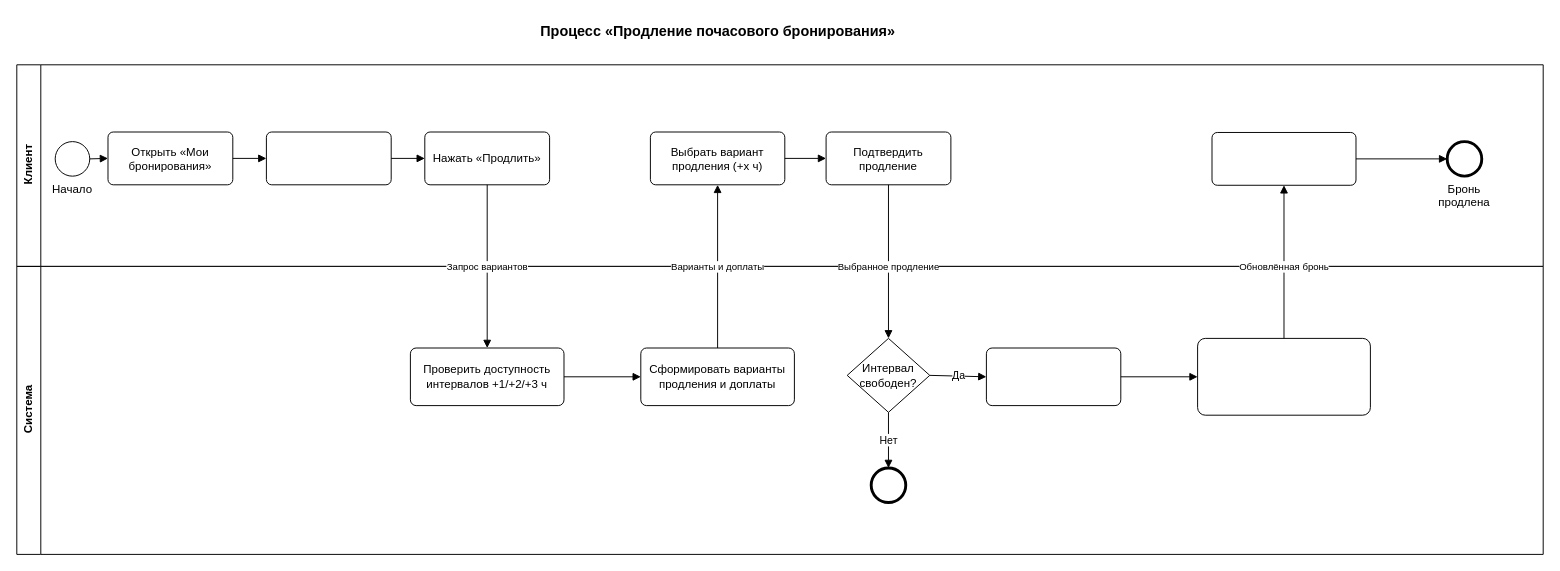
This 1560x571 diagram has some shape labels left out. Each missing label, with the centre of its shape:
Выбрать активную почасовую бронь: the point at 328,158
Обновить время окончания и стоимость бронирования в хранилище данных: the point at 1283,376
Отказ: интервал занят: the point at 888,485
Просмотр обновлённой брони: the point at 1283,158
Рассчитать доплату: the point at 1053,376
